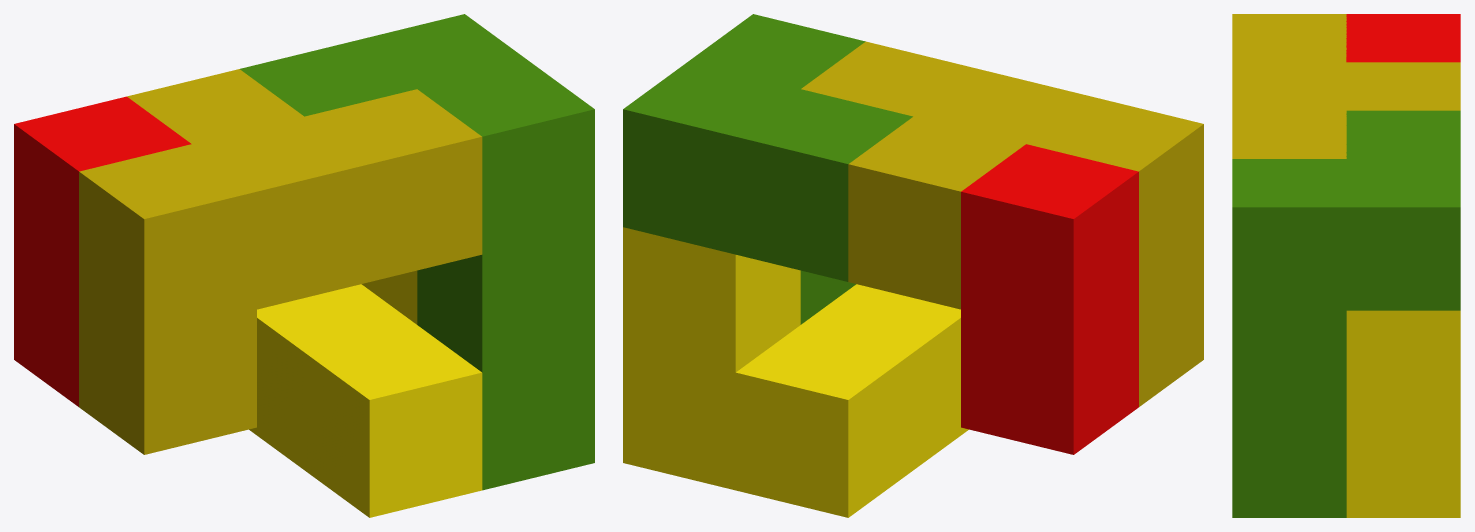
3 renders of one model, left to right at view 1: azimuth 30°, elevation 25°; view 2: azimuth 150°, elevation 25°; view 3: azimuth 270°, elevation 25°, orthographic. The views are drawn at different scales.
Parts seen in each view (by area): view 1: mergedBlocks(Clone); view 2: mergedBlocks(Clone); view 3: mergedBlocks(Clone).
Boxes of the visible parts, box(x1,y1,x2,y2) form: mergedBlocks(Clone): box(14, 14, 594, 517); mergedBlocks(Clone): box(623, 14, 1203, 517); mergedBlocks(Clone): box(1232, 14, 1460, 517).
Size of the model in its own units: 4 by 3 by 2.
Materials: 4 (4 with a texture image).
